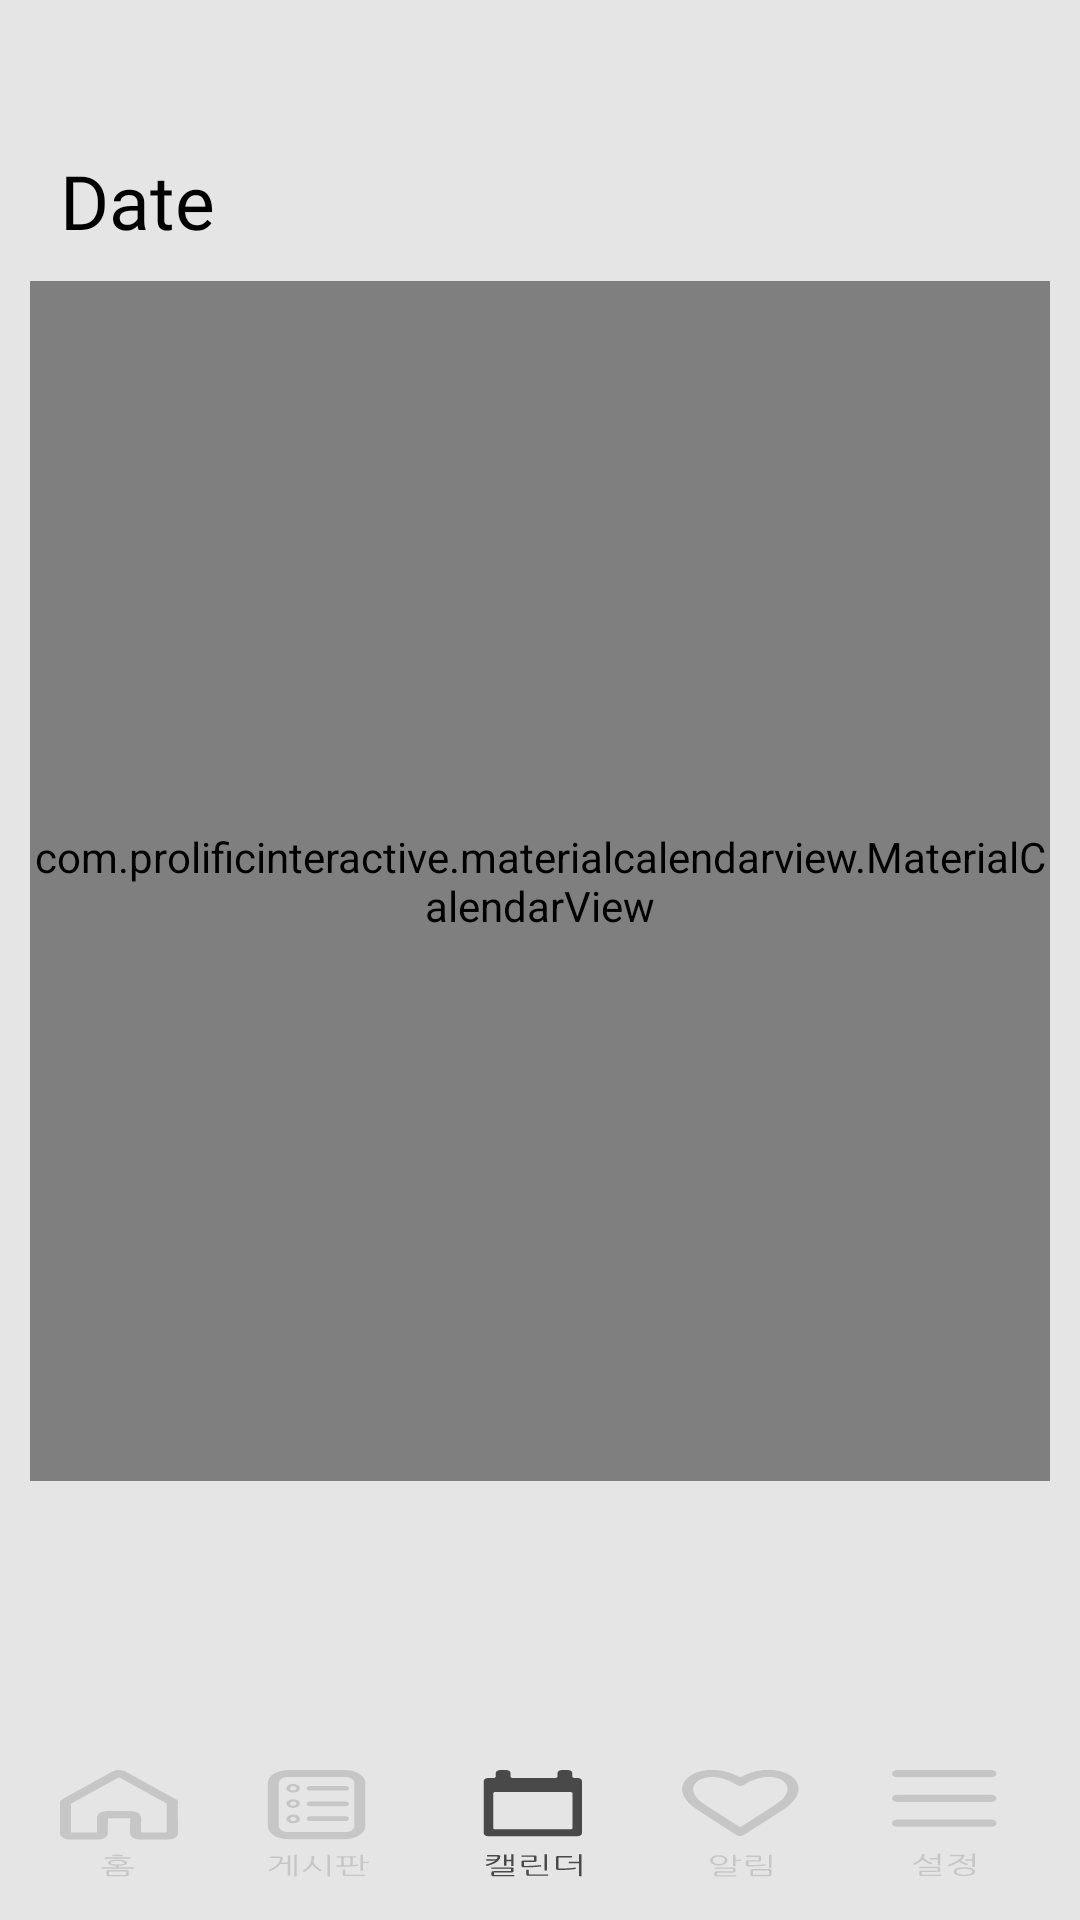

Where to tap for icons on this 1080*1920 app screen, as point (x, y):
plannerb: point (532, 1823)
